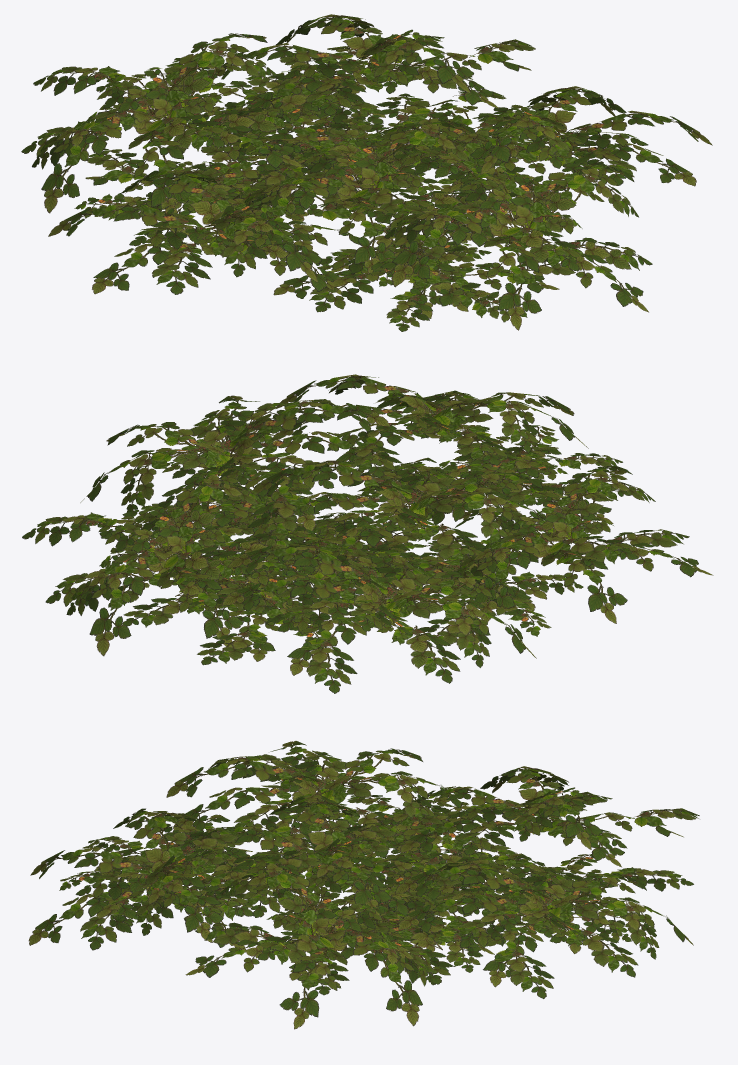
File: bodembedekker 2 groot.fbx
3 views of the same model, one above another, from view 1: azimuth 30°, elevation 25°; view 2: azimuth 150°, elevation 25°; view 3: azimuth 270°, elevation 25° (orthographic). The views are drawn at different scales.
Parts seen in each view (by area): view 1: Mesh Object; view 2: Mesh Object; view 3: Mesh Object.
Part boxes in pixels (x1,y1,x2,y2): Mesh Object: (21, 14, 712, 331); Mesh Object: (22, 374, 713, 693); Mesh Object: (28, 741, 699, 1029).
Bounding box in the file's own units: 11.66 × 1.86 × 12.14.
